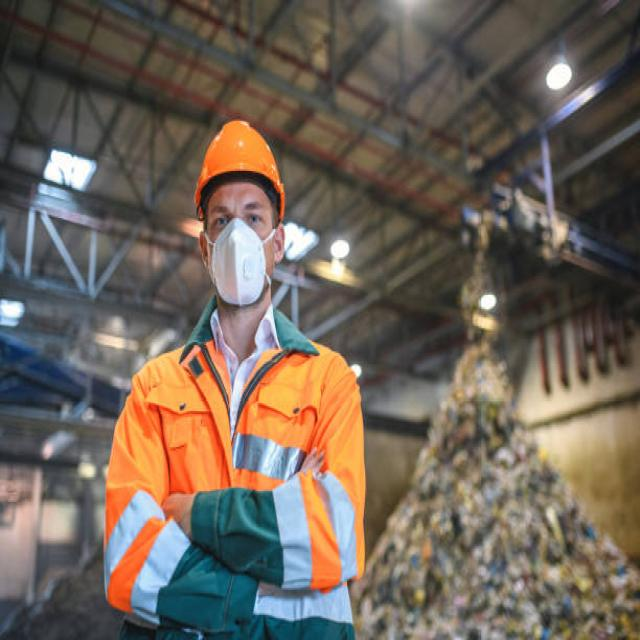trash: (405, 351, 595, 615)
